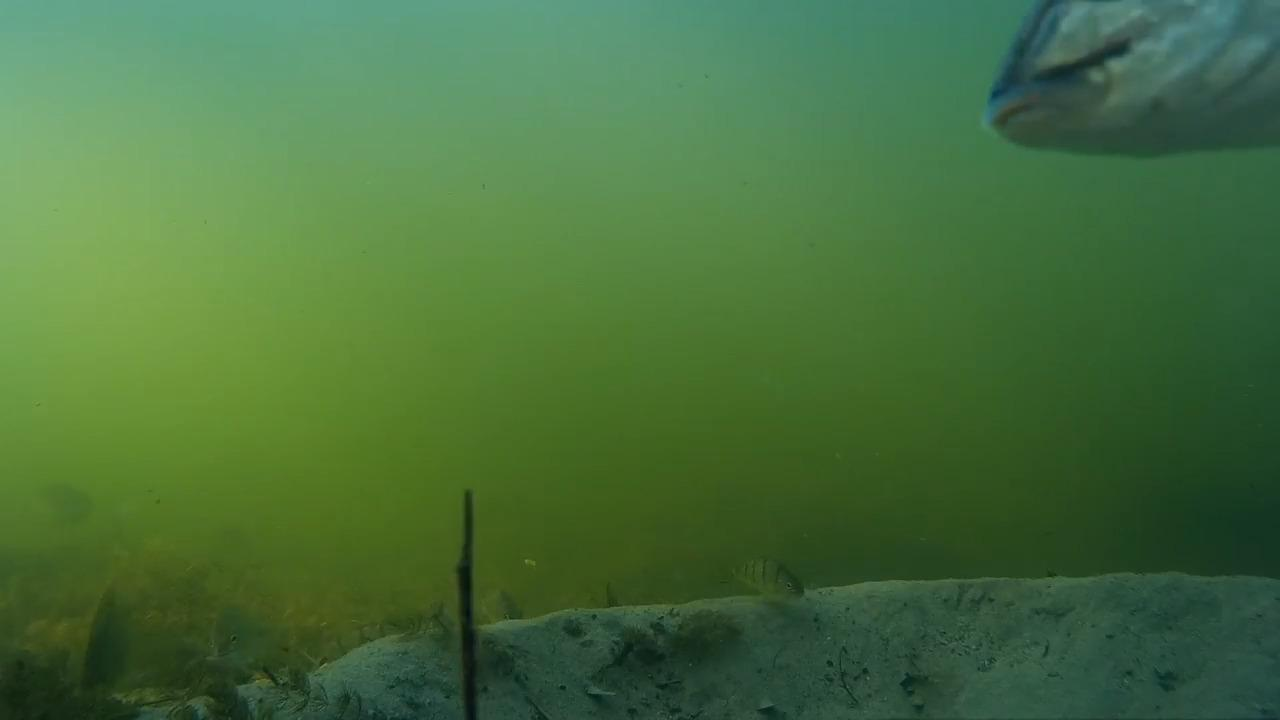Tilapia: (985, 5, 1276, 168), (65, 568, 151, 694), (203, 598, 309, 682), (712, 550, 817, 624)
